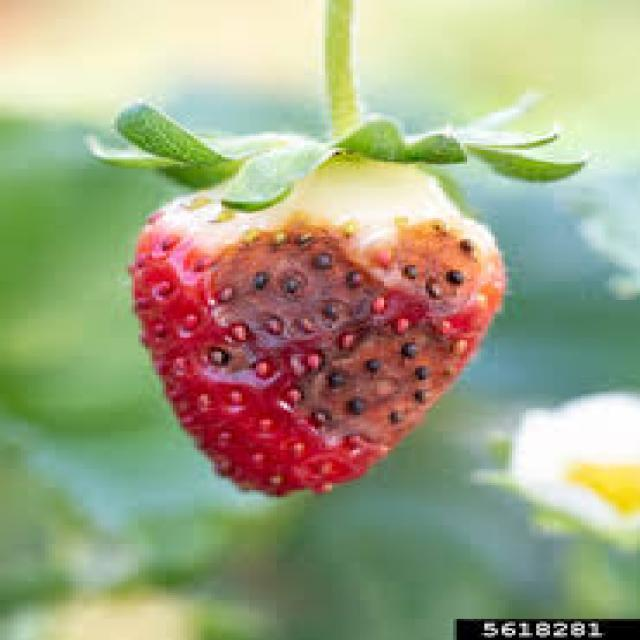Mancha negra Antracnosis: (125, 144, 498, 503)
